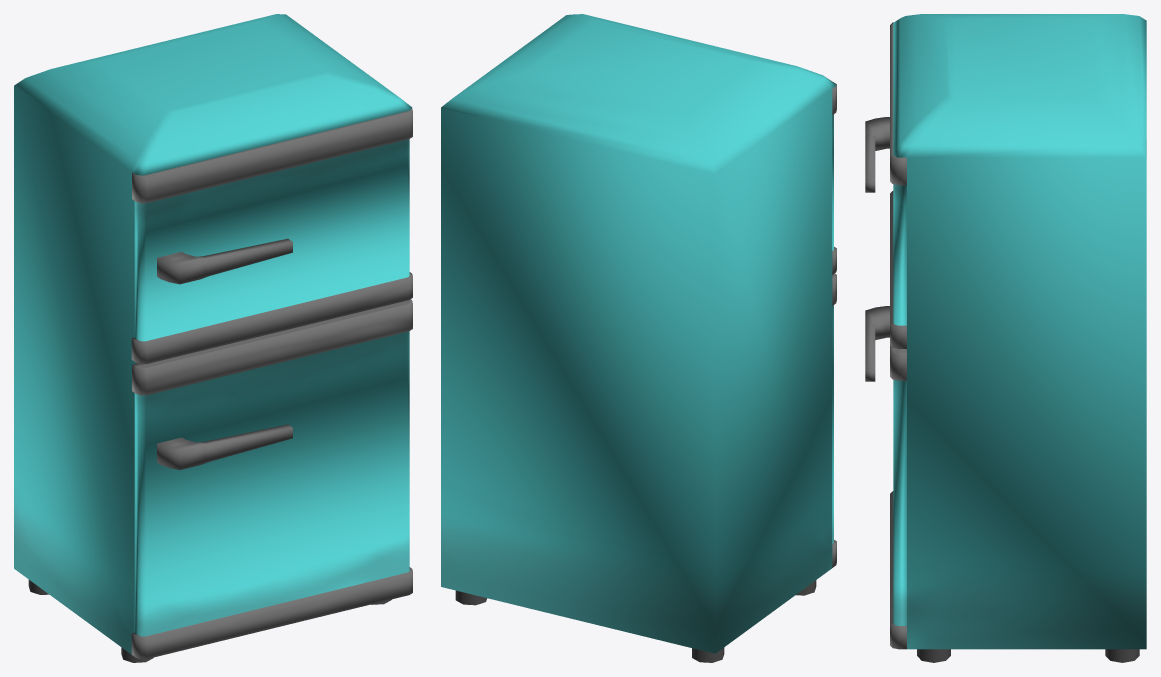
File: fridge.fbx
The picture shows the model from 3 angles, left to right: view 1: azimuth 30°, elevation 25°; view 2: azimuth 150°, elevation 25°; view 3: azimuth 270°, elevation 25°; orthographic projection. The views are drawn at different scales.
Parts seen in each view (by area): view 1: Cube; view 2: Cube; view 3: Cube.
Boxes of the visible parts, box(x1,y1,x2,y2) form: Cube: box(14, 14, 412, 662); Cube: box(441, 14, 836, 662); Cube: box(865, 14, 1146, 662).
Size of the model in its own units: 289 by 528 by 250.
